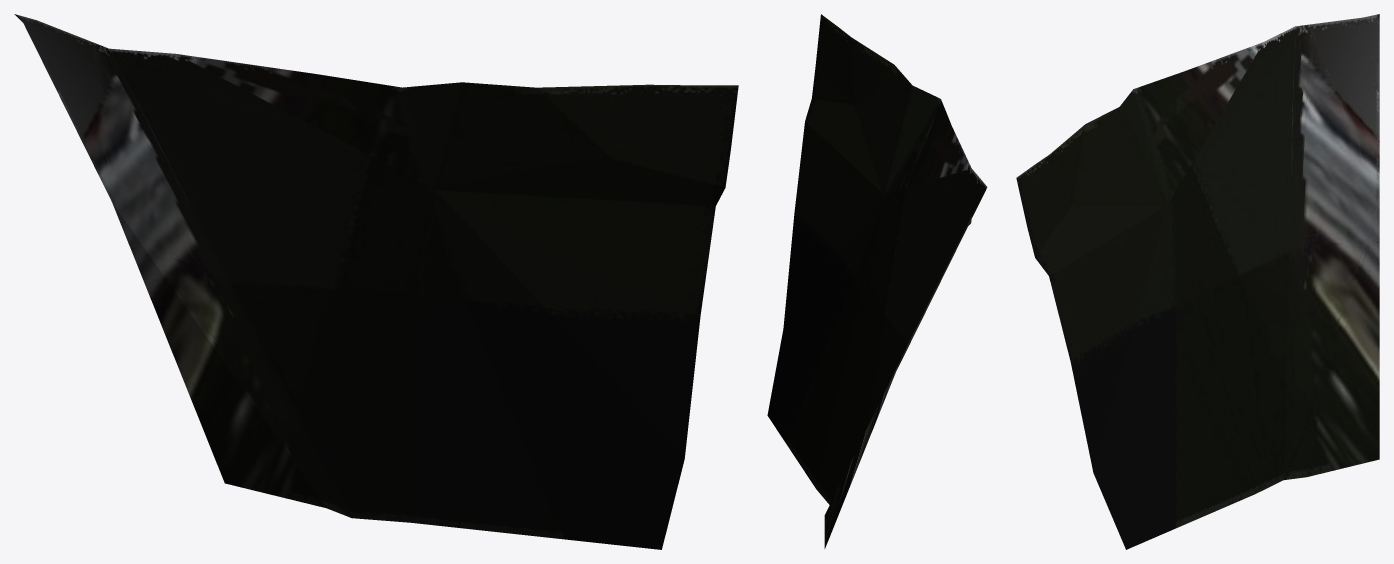
3 renders of one model, left to right at view 1: azimuth 30°, elevation 25°; view 2: azimuth 150°, elevation 25°; view 3: azimuth 270°, elevation 25°, orthographic. The views are drawn at different scales.
Size of the model in its own units: 1.58 by 1.67 by 1.48.
3 materials, 3 textured.
